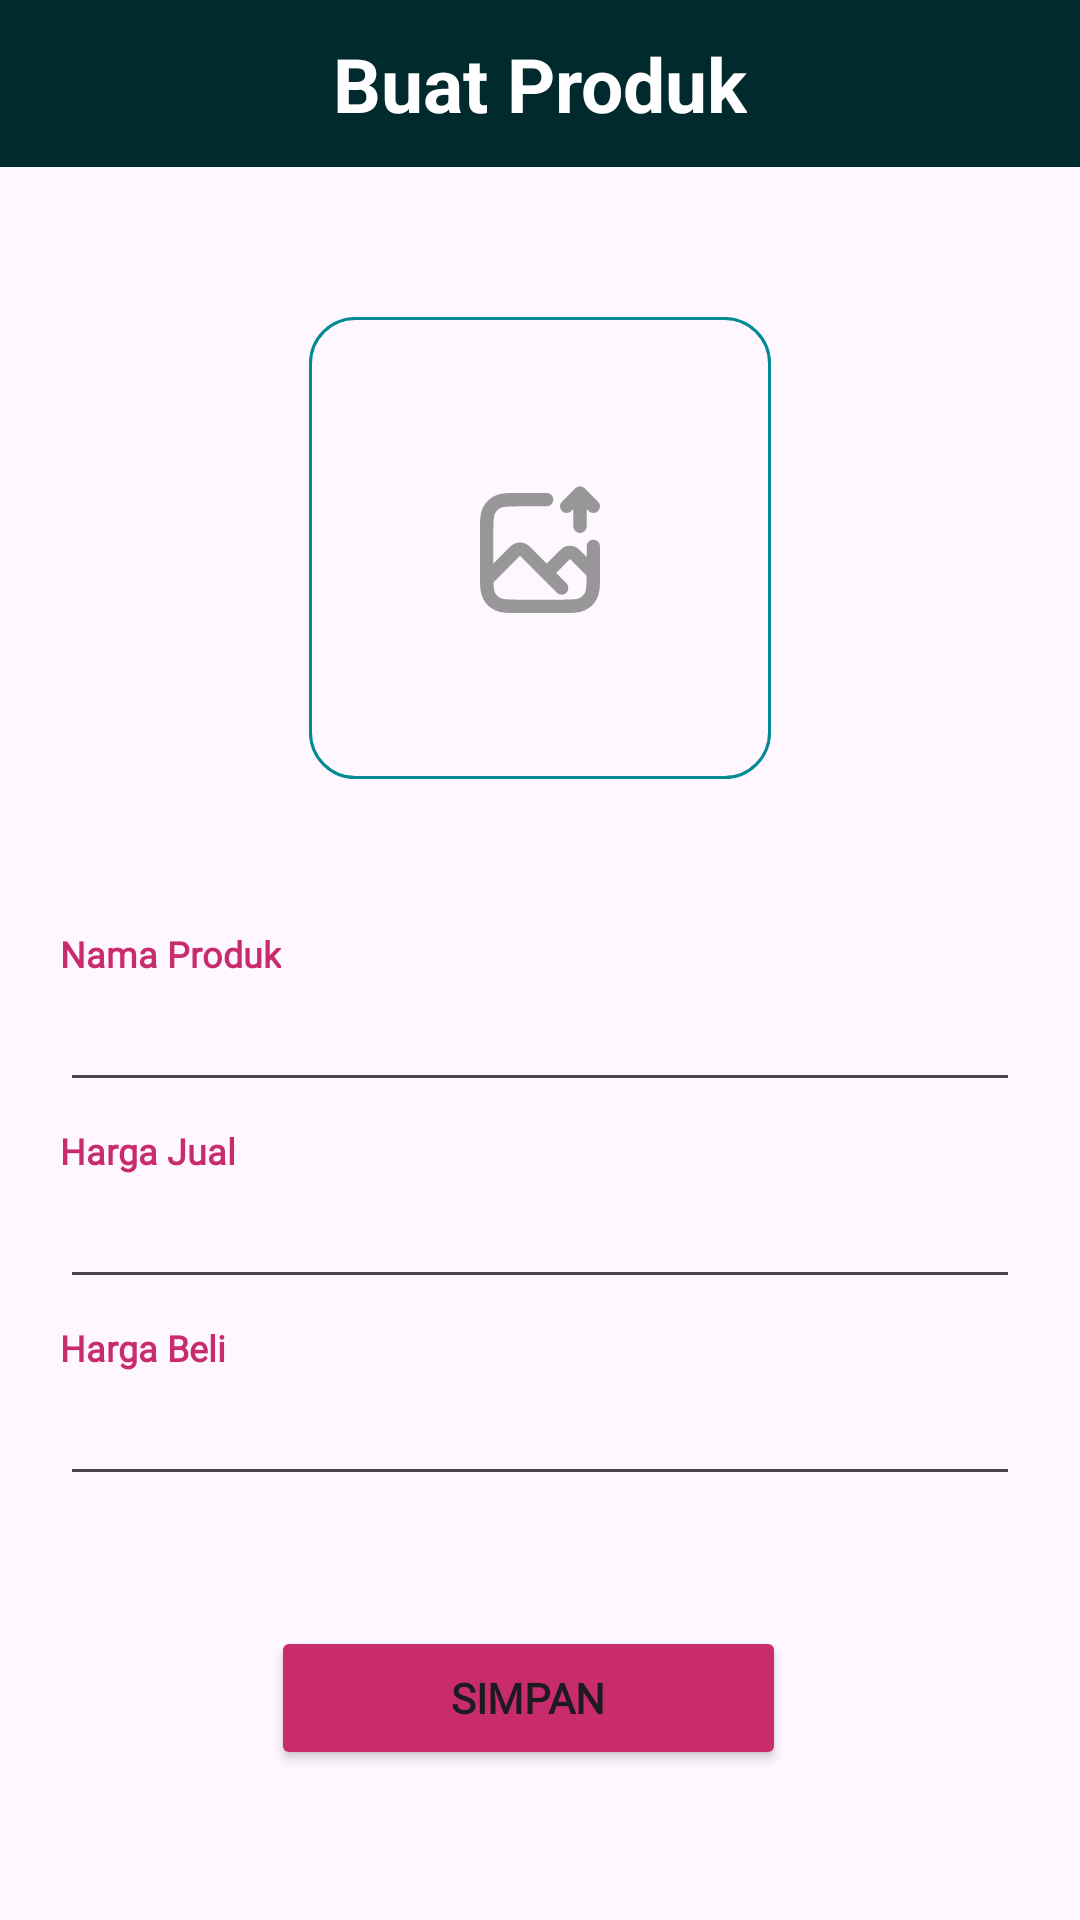

Icon bounding boxes for this 1080px×1920px phone screenshot, format [left=x1, top=y1, right=x2, bottom=y2]:
upload image: [left=480, top=486, right=600, bottom=613]
